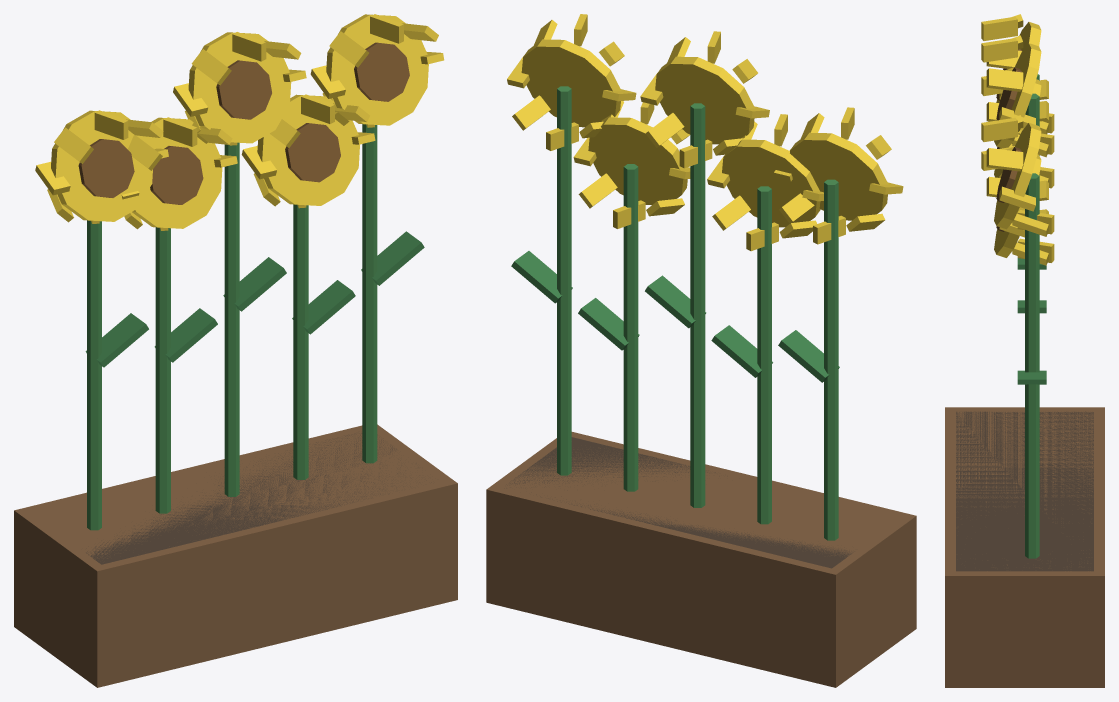
The model's file is sunflowers.glb.
3 renders of one model, left to right at view 1: azimuth 30°, elevation 25°; view 2: azimuth 150°, elevation 25°; view 3: azimuth 270°, elevation 25°, orthographic. The views are drawn at different scales.
Parts seen in each view (by area): view 1: sunflowers; view 2: sunflowers; view 3: sunflowers.
Part boxes in pixels (x1,y1,x2,y2): sunflowers: (14,14,457,687); sunflowers: (486,14,916,687); sunflowers: (945,14,1104,687).
Bounding box in the file's own units: 1.19 × 1.71 × 0.44.
